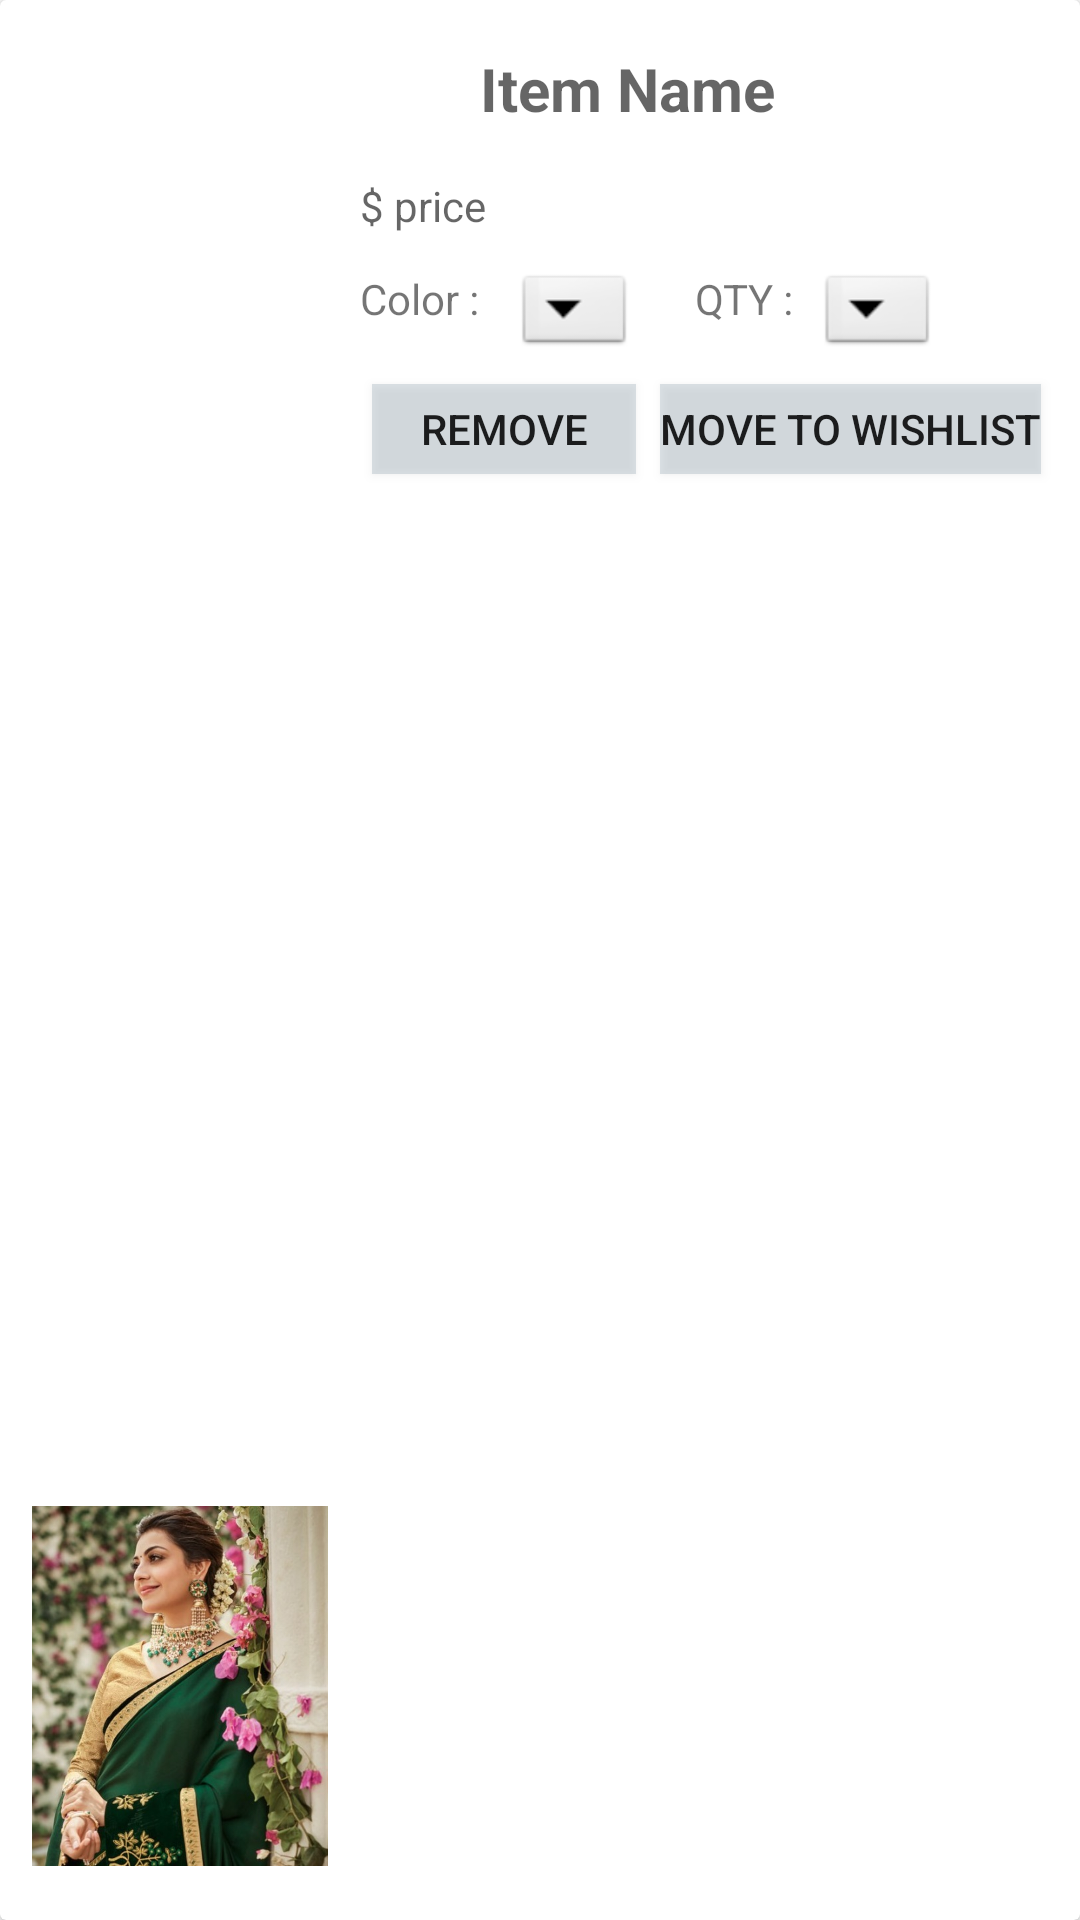

Named icons in this screenshot (1080×1920) and their bounding boxes, Rect(x1, y1, x2, y2):
saree: Rect(32, 1506, 328, 1866)
